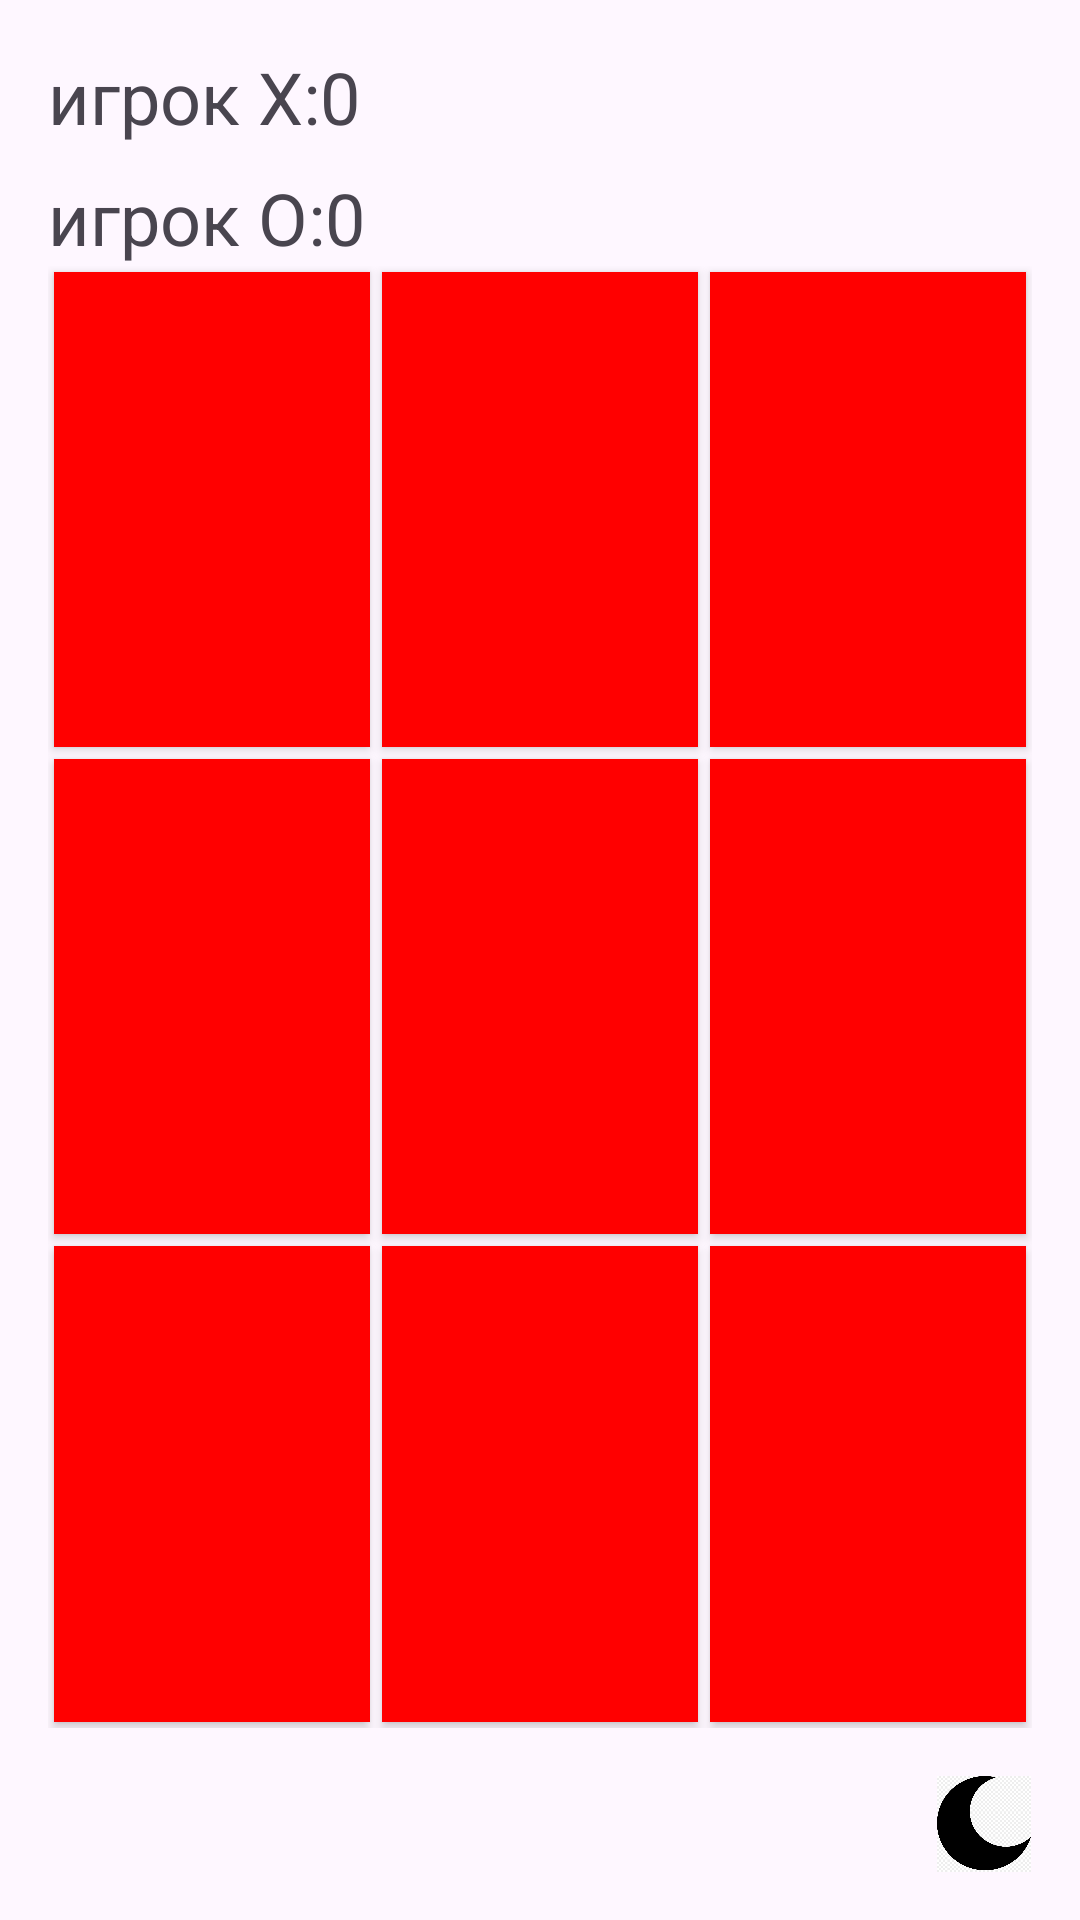

Named icons in this screenshot (1080x1920) and their centers, (x=x, y=y):
Смена темы: (x=984, y=1824)
